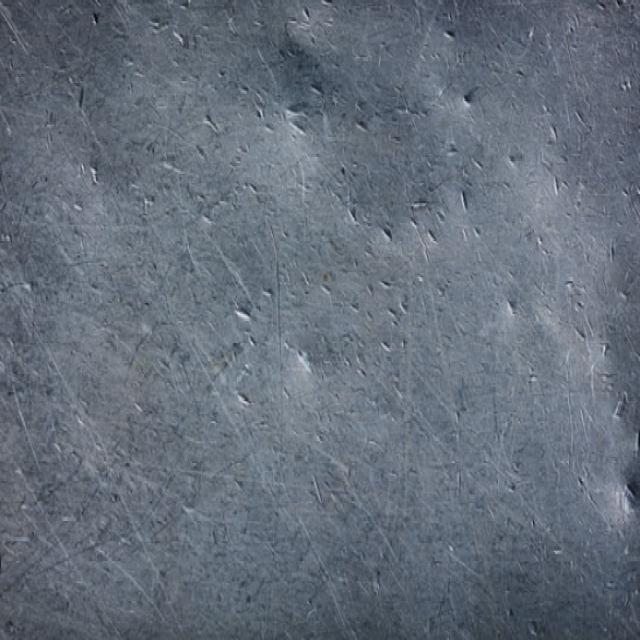dents: (275, 91, 325, 152), (500, 144, 544, 212), (74, 148, 128, 198), (609, 460, 640, 546), (219, 284, 269, 335), (598, 377, 640, 433), (494, 288, 541, 334), (289, 337, 330, 385), (226, 370, 262, 417), (13, 267, 52, 306), (313, 276, 347, 320), (453, 181, 480, 230), (350, 111, 378, 158), (340, 194, 370, 237), (372, 214, 399, 257), (166, 25, 196, 63), (437, 16, 461, 61), (459, 82, 483, 124), (376, 324, 394, 363)
